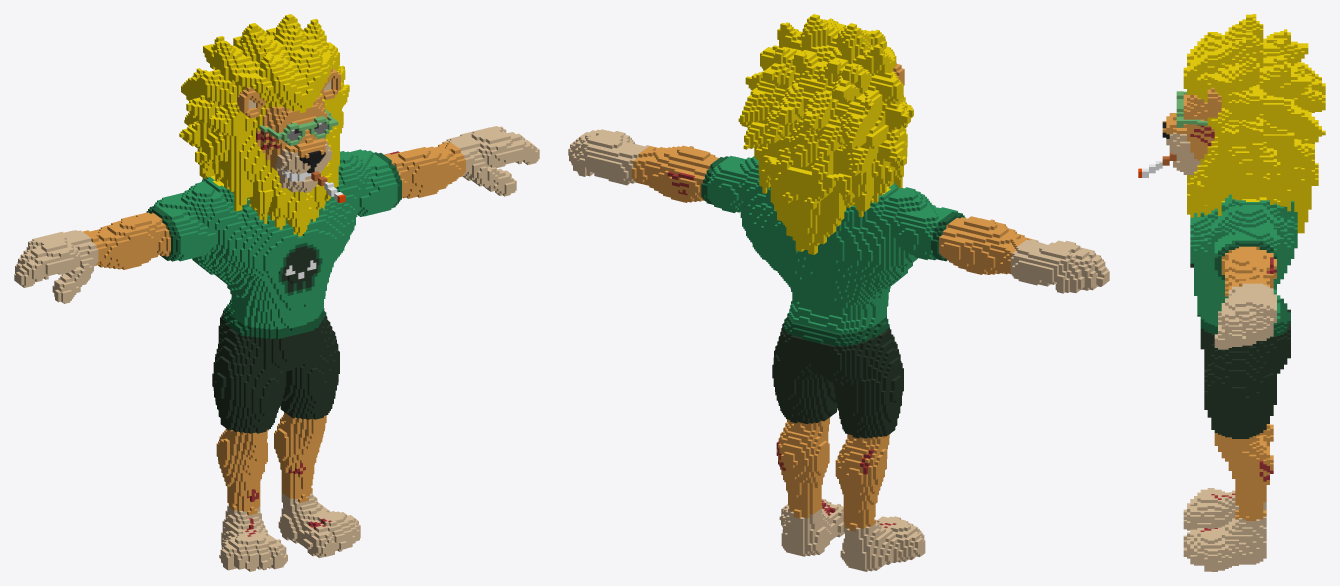
Rendered from 482-gh6okrkt.glb.
The picture shows the model from 3 angles, left to right: view 1: azimuth 30°, elevation 25°; view 2: azimuth 150°, elevation 25°; view 3: azimuth 270°, elevation 25°; orthographic projection. The views are drawn at different scales.
Parts seen in each view (by area): view 1: cigarette; view 2: cigarette; view 3: cigarette.
Boxes of the visible parts, x1,y1,x2,y2 form: cigarette: [14, 14, 539, 571]; cigarette: [568, 14, 1109, 571]; cigarette: [1138, 14, 1325, 571].
Size of the model in its own units: 17.2 by 16.5 by 5.4.
Materials: 5 (5 with a texture image).
